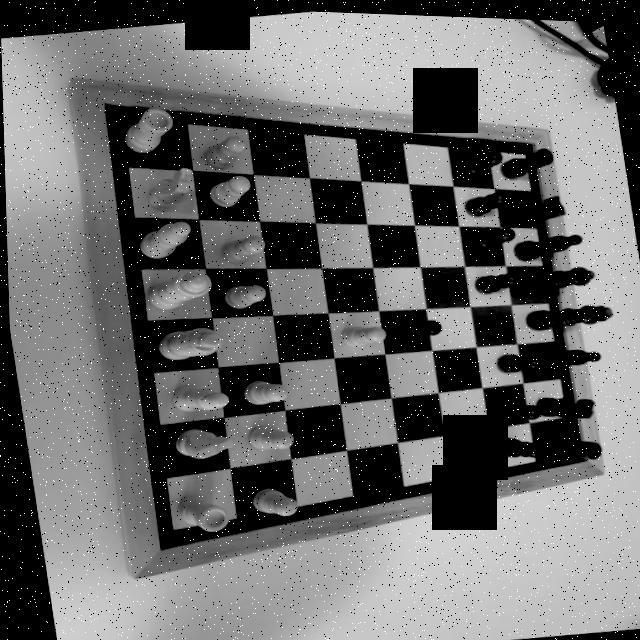chess-table-corners: (95, 85, 124, 118), (146, 533, 174, 561), (523, 126, 546, 150), (572, 442, 594, 462)
